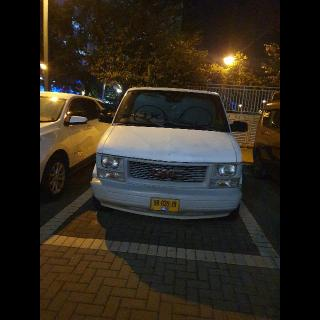LicensePlate: (151, 197, 179, 208)
